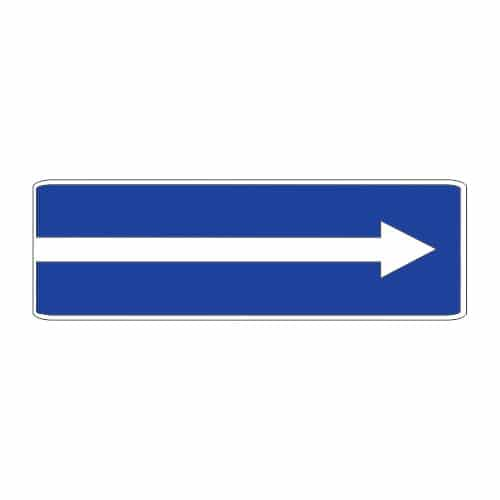One-Way Traffic: (33, 178, 469, 321)
